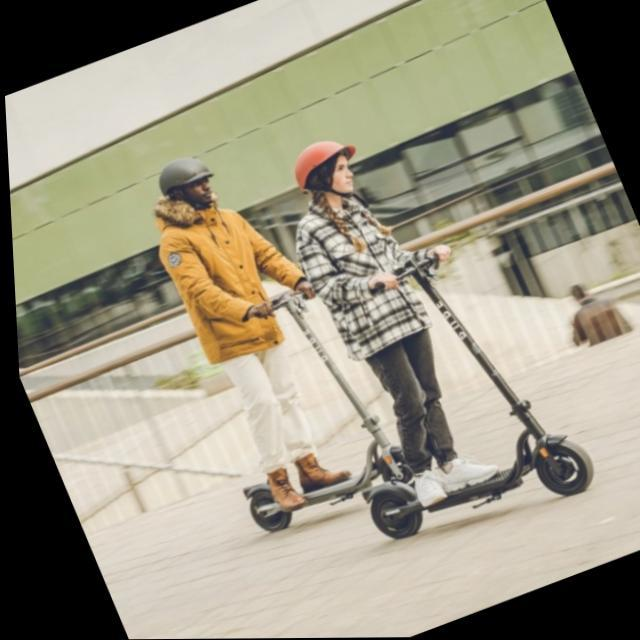Helmet: (290, 136, 364, 206), (152, 157, 220, 216)
